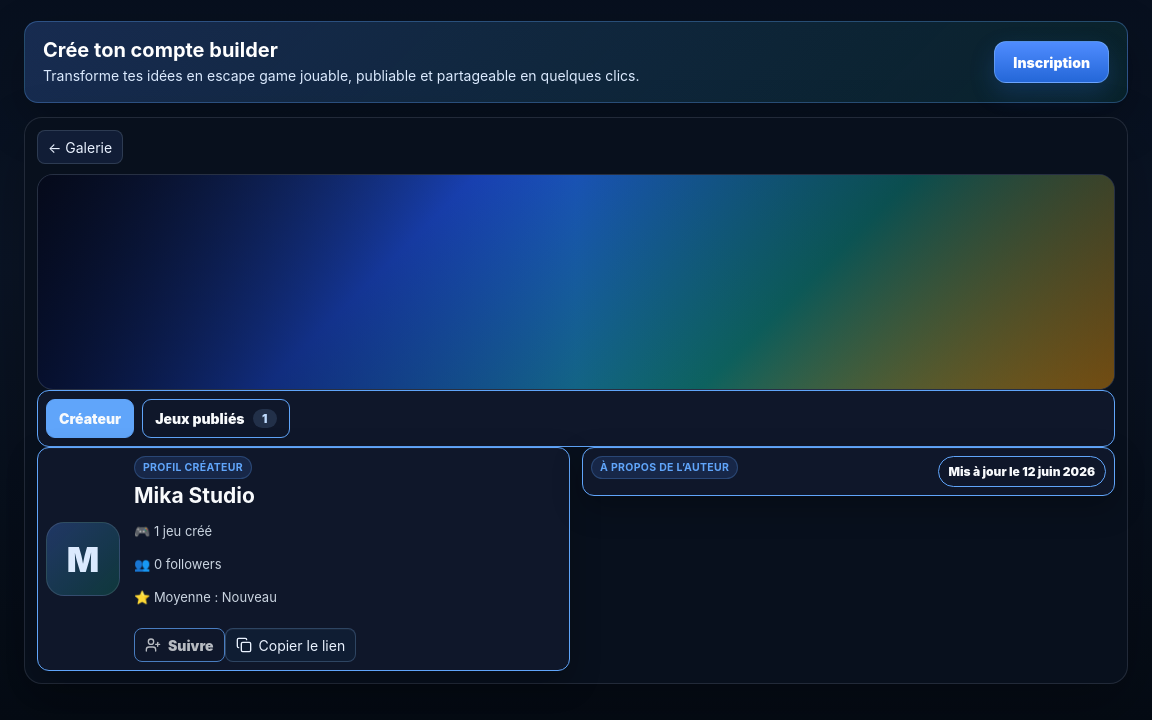
author profile media › copie le lien public depuis une fiche auteur galerie
(page scrolled)
Expected: the text "Profil créateur" is shown, [134,456,252,479]
Click the button "Copier le lien". click: click(290, 645)
box: [224,628,356,662]
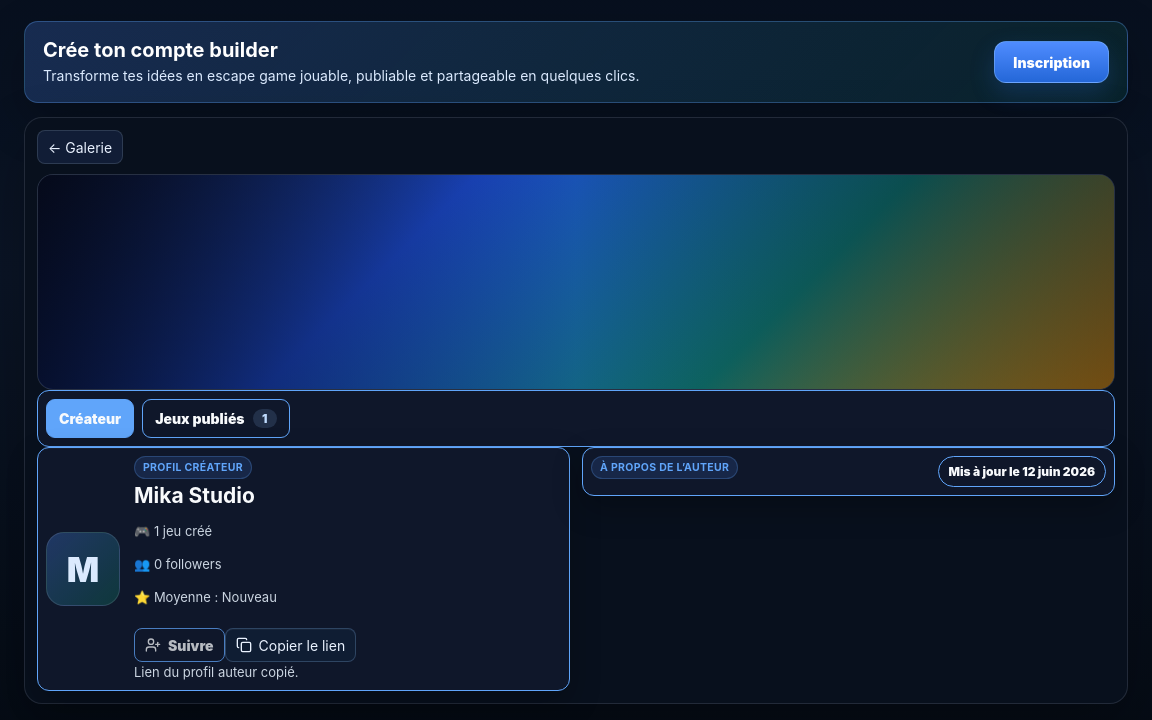
Expected: the text "Lien du profil auteur copié." is shown, [134,664,298,680]
